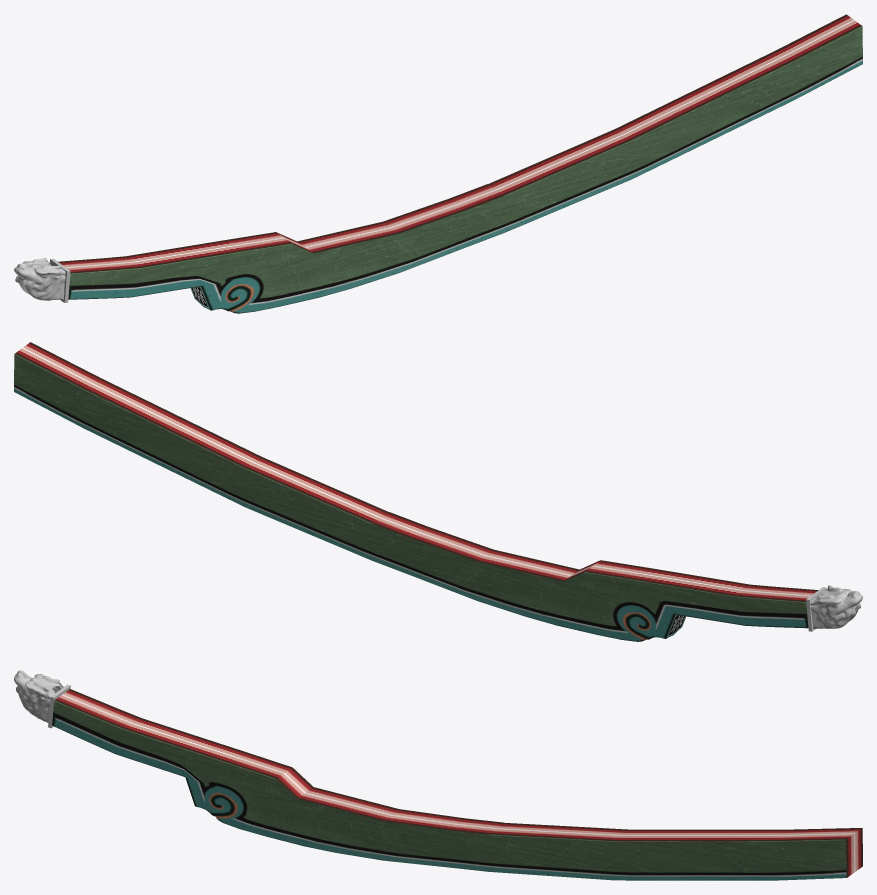
The model's file is SM_AngleRafter01D.fbx.
The picture shows the model from 3 angles, top to bottom: view 1: azimuth 30°, elevation 25°; view 2: azimuth 150°, elevation 25°; view 3: azimuth 330°, elevation 25°; orthographic projection.
Parts seen in each view (by area): view 1: SM_AngleRafter01D; view 2: SM_AngleRafter01D; view 3: SM_AngleRafter01D.
Boxes of the visible parts, x1,y1,x2,y2 form: SM_AngleRafter01D: (14,14,862,313); SM_AngleRafter01D: (14,342,862,641); SM_AngleRafter01D: (14,670,862,880).
Size of the model in its own units: 767 by 27.06 by 124.
